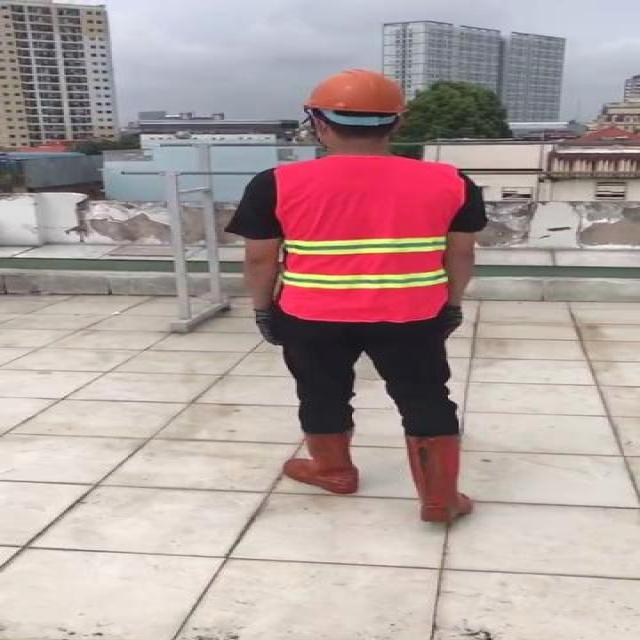boots: (400, 432, 473, 523), (281, 431, 361, 495)
hand_glove: (251, 308, 281, 347), (446, 308, 464, 340)
head_helmet: (298, 68, 411, 118)
person: (229, 64, 498, 528)
vest: (276, 156, 462, 320)
